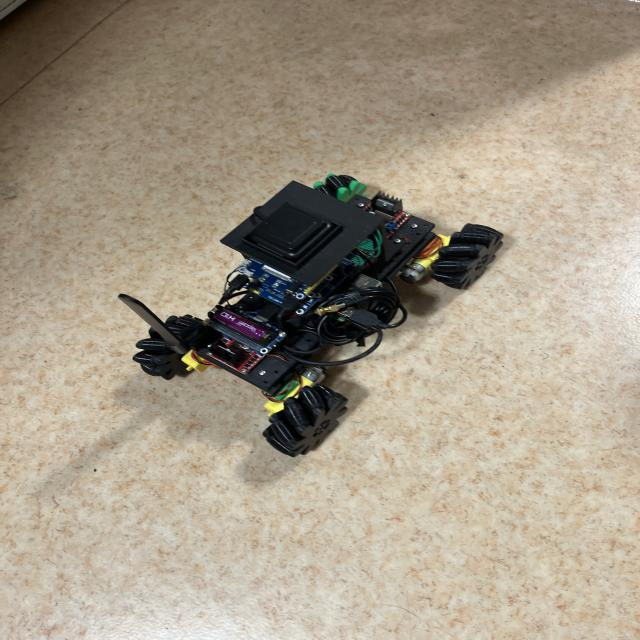robot: (119, 175, 503, 457)
